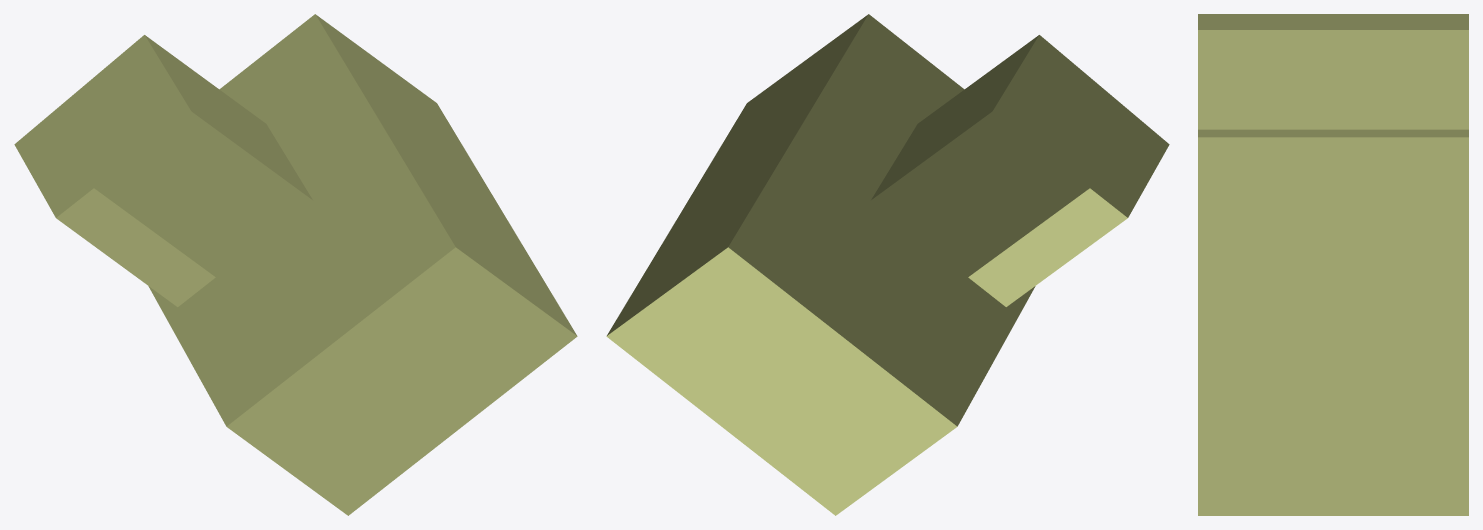
3 views of the same model, side by side, from view 1: azimuth 30°, elevation 25°; view 2: azimuth 150°, elevation 25°; view 3: azimuth 270°, elevation 25° (orthographic). The views are drawn at different scales.
Parts seen in each view (by area): view 1: 0_0_1_1_2_2_0_0_1; view 2: 0_0_1_1_2_2_0_0_1; view 3: 0_0_1_1_2_2_0_0_1.
Part boxes in pixels (x1,y1,x2,y2): 0_0_1_1_2_2_0_0_1: [14, 14, 577, 515]; 0_0_1_1_2_2_0_0_1: [606, 14, 1169, 515]; 0_0_1_1_2_2_0_0_1: [1198, 14, 1468, 515].
Size of the model in its own units: 18.82 by 16.79 by 9.
